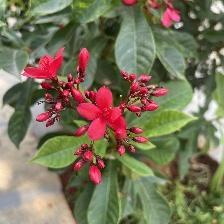jatropha: (75, 86, 129, 143)
